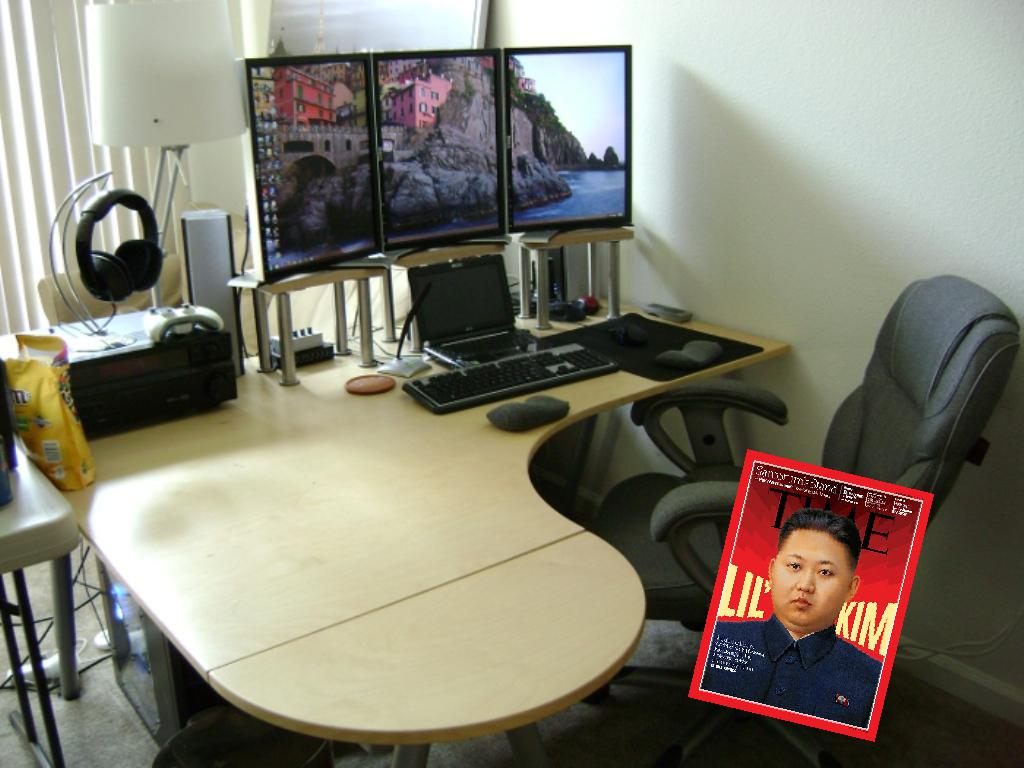times: (671, 449, 937, 745)
